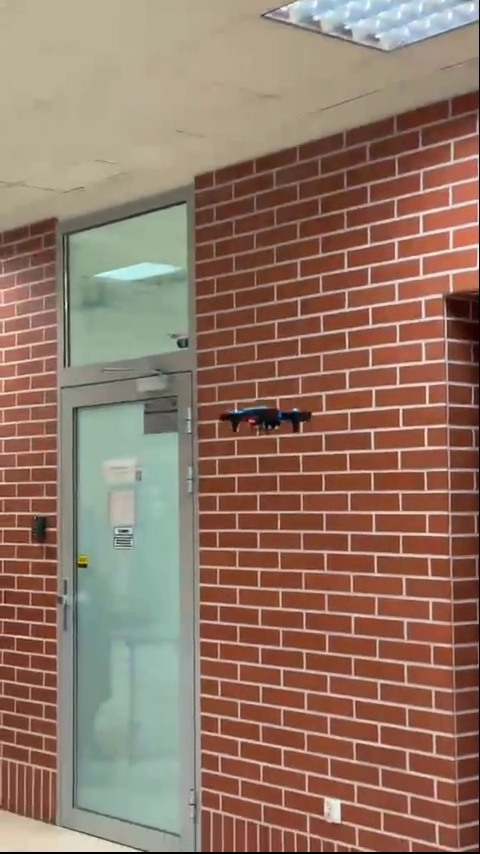drone: (219, 403, 313, 431)
